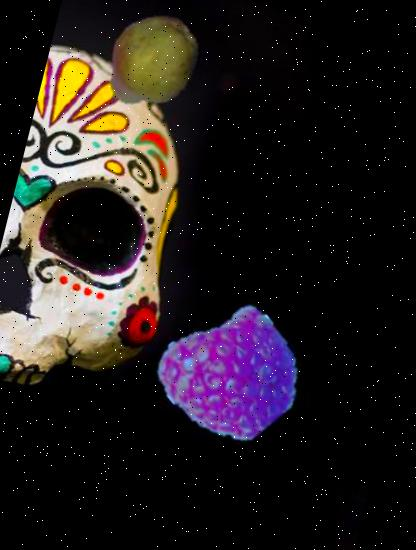Pear: (86, 0, 217, 129)
Raspberry: (154, 297, 312, 455)
